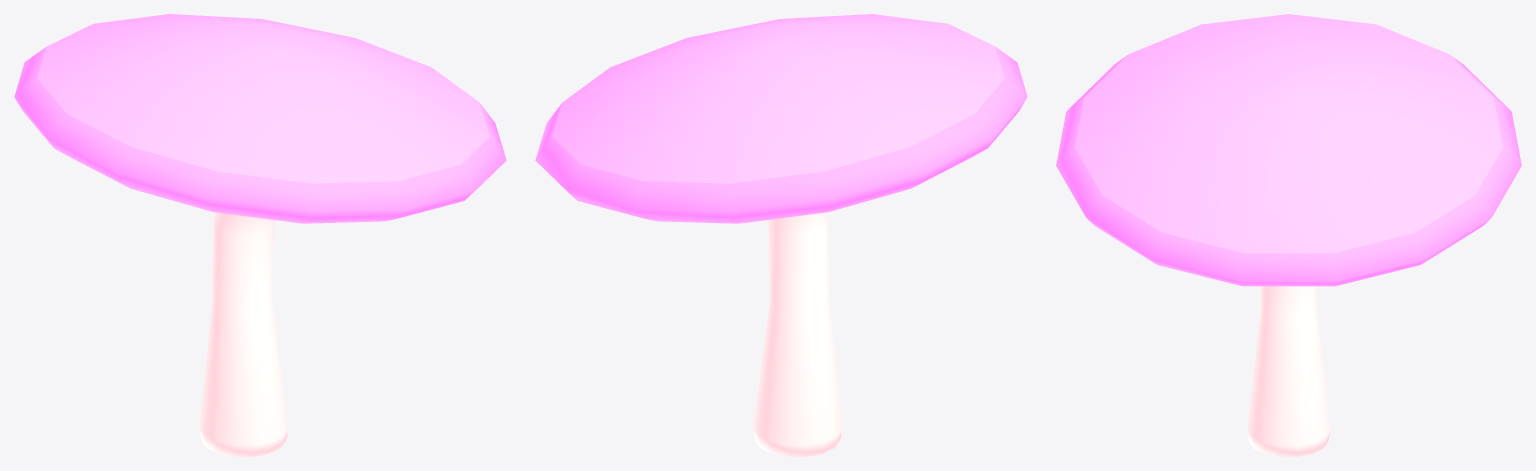
File: cogumelo_P1.fbx
3 renders of one model, left to right at view 1: azimuth 30°, elevation 25°; view 2: azimuth 150°, elevation 25°; view 3: azimuth 270°, elevation 25°, orthographic. The views are drawn at different scales.
Parts seen in each view (by area): view 1: cogu_P1; view 2: cogu_P1; view 3: cogu_P1.
Part boxes in pixels (bbox=[...]): cogu_P1: bbox=[14, 14, 506, 456]; cogu_P1: bbox=[535, 14, 1027, 456]; cogu_P1: bbox=[1056, 14, 1521, 456].
Bounding box in the file's own units: 273 × 278 × 242.
